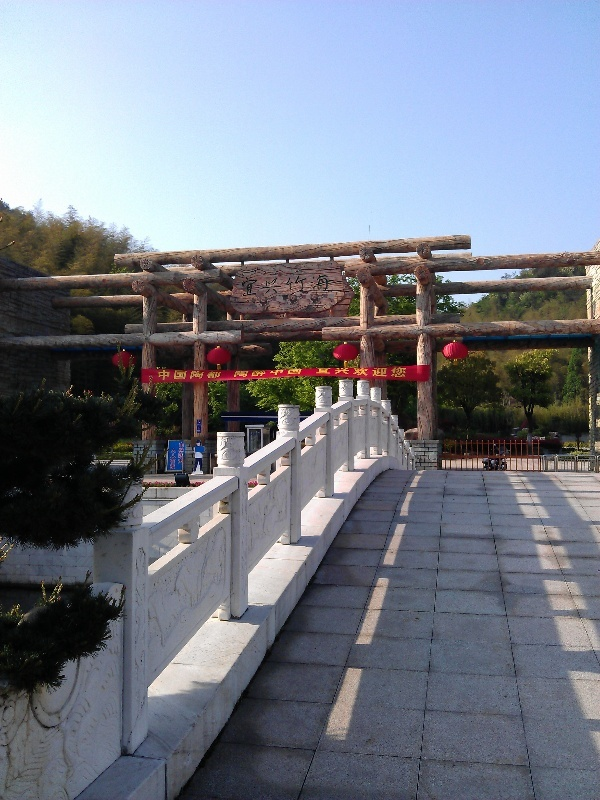text: (241, 273, 256, 297), (257, 273, 272, 297), (273, 273, 288, 297), (289, 273, 304, 297), (305, 273, 320, 297), (321, 273, 335, 297), (179, 442, 192, 464), (161, 370, 176, 381), (177, 370, 192, 381), (193, 370, 208, 381), (321, 367, 336, 378), (337, 367, 352, 378), (353, 367, 368, 378), (369, 367, 384, 378), (385, 367, 400, 378), (209, 370, 222, 381), (241, 369, 256, 378), (257, 369, 272, 378), (273, 369, 288, 378), (289, 369, 303, 378), (171, 448, 176, 470), (401, 367, 407, 378), (236, 369, 240, 378), (317, 367, 320, 378), (158, 370, 160, 381)
